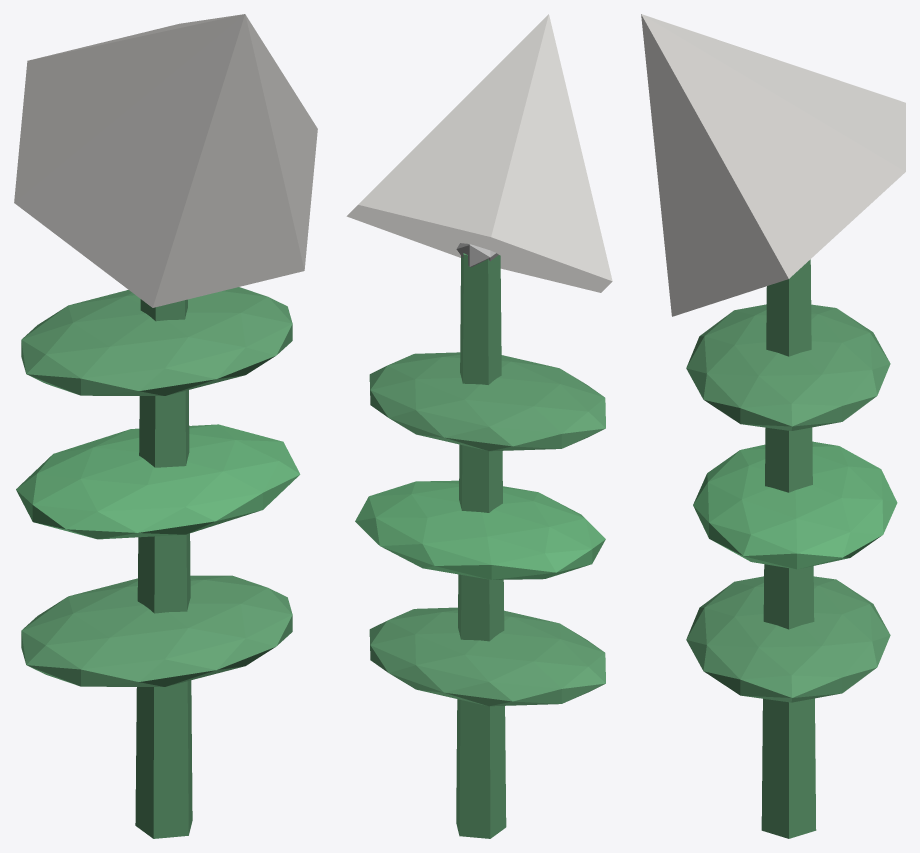
The model's file is asystasia-intrusa.glb.
3 views of the same model, side by side, from view 1: azimuth 30°, elevation 25°; view 2: azimuth 150°, elevation 25°; view 3: azimuth 270°, elevation 25° (orthographic). The views are drawn at different scales.
Visible parts, largest first — view 1: trumpet, leaf1, leaf0, leaf2, stem; view 2: trumpet, leaf1, stem, leaf2, leaf0, head; view 3: trumpet, leaf2, leaf1, leaf0, stem.
Boxes of the visible parts, x1,y1,x2,y2 form: trumpet: (14, 14, 317, 307); leaf1: (16, 424, 300, 539); leaf0: (21, 575, 292, 686); leaf2: (21, 287, 292, 395); stem: (135, 299, 192, 838); trumpet: (346, 14, 612, 292); leaf1: (355, 480, 605, 579); stem: (456, 253, 506, 838); leaf2: (369, 352, 605, 451); leaf0: (369, 607, 605, 706); head: (456, 243, 498, 267); trumpet: (641, 14, 905, 316); leaf2: (686, 304, 890, 430); leaf1: (693, 441, 897, 569); leaf0: (686, 576, 890, 702); stem: (761, 259, 816, 838).
Bounding box in the file's own units: 0.16 × 0.4384 × 0.1295.
